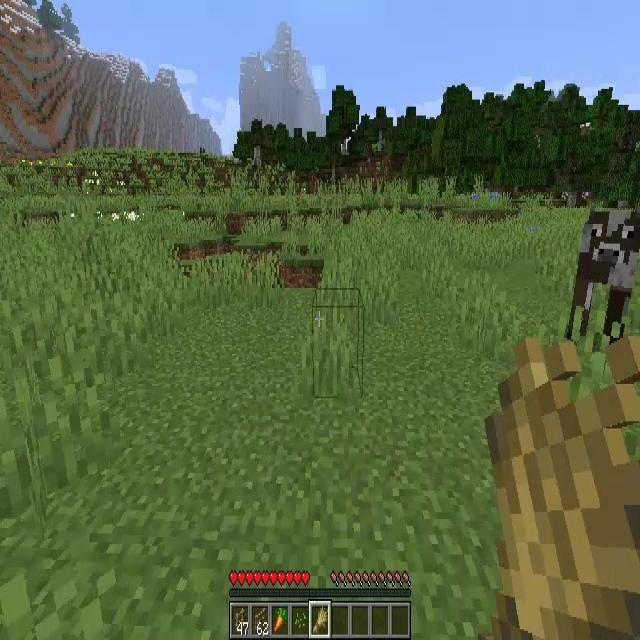cow: (570, 210, 638, 347)
